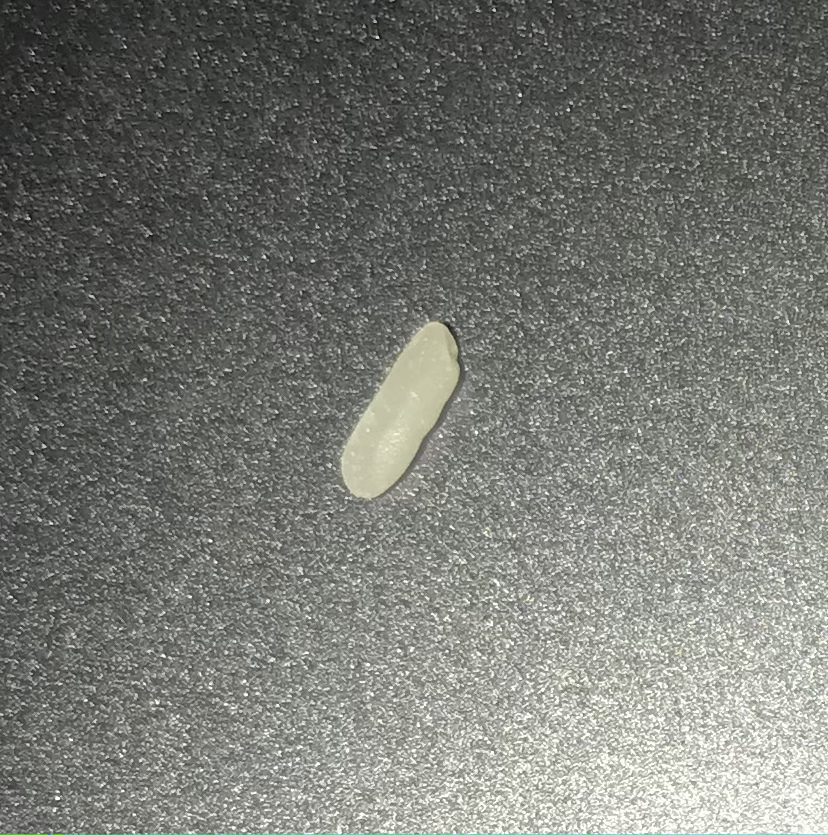Gao Tam Thom: (333, 309, 469, 534)
